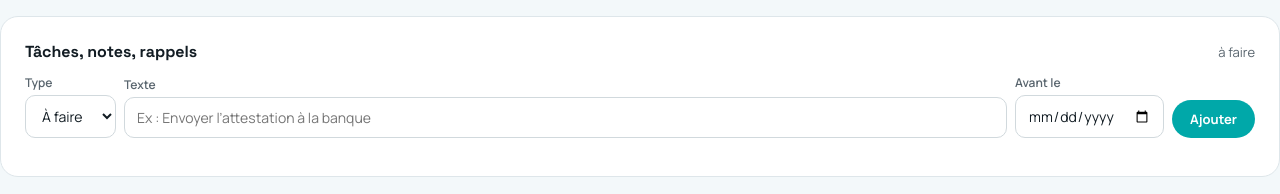
Test: carte Tâches, notes, rappels › une note n’a pas de champ de date
Select "Note" in the dropdown labelled "Type": point(70, 116) [25,95,116,138]
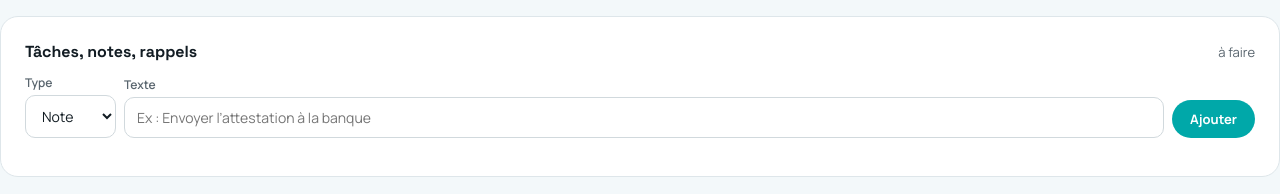
Expected: the label labelled "Avant le" is gone
